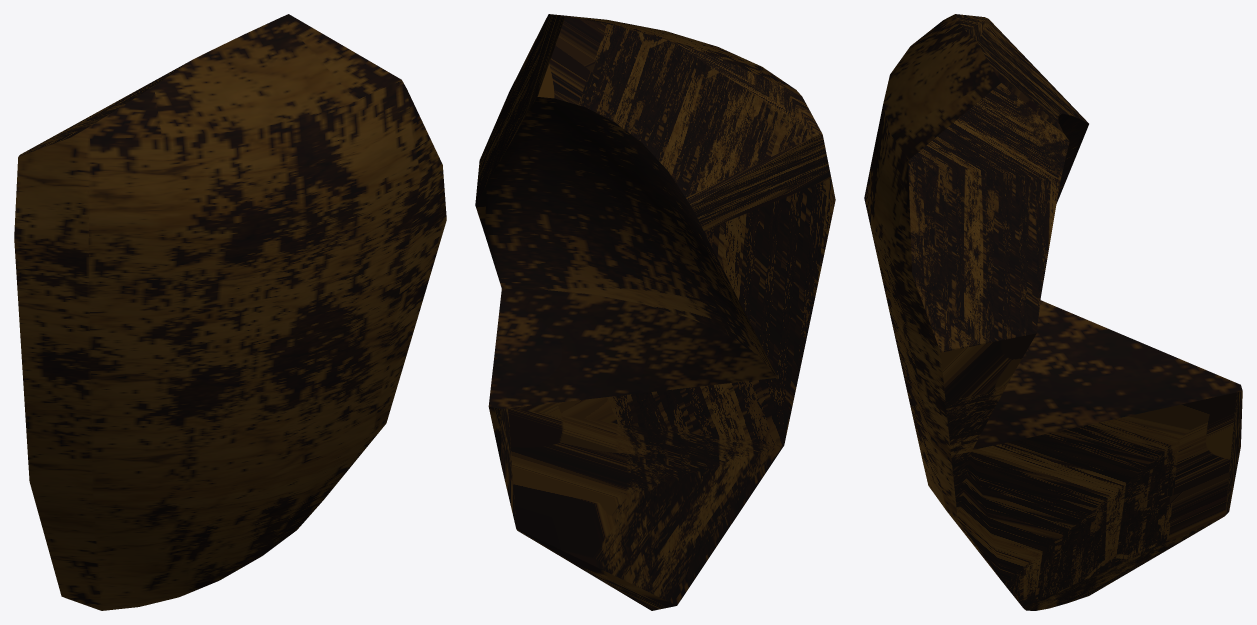
Rendered from PoteryPiece5.fbx.
3 views of the same model, side by side, from view 1: azimuth 30°, elevation 25°; view 2: azimuth 150°, elevation 25°; view 3: azimuth 270°, elevation 25° (orthographic). The views are drawn at different scales.
Parts seen in each view (by area): view 1: Cylinder_cell.004; view 2: Cylinder_cell.004; view 3: Cylinder_cell.004.
Boxes of the visible parts, x1,y1,x2,y2 form: Cylinder_cell.004: (14,14,446,610); Cylinder_cell.004: (475,14,835,610); Cylinder_cell.004: (864,14,1242,610).
Size of the model in its own units: 183 by 251 by 148.
